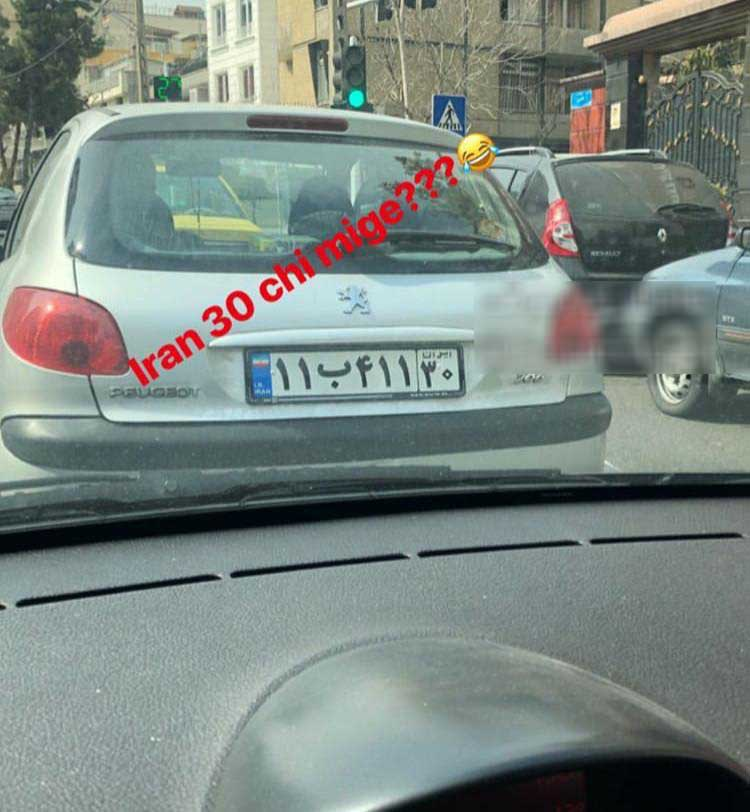car: (240, 351, 463, 397)
